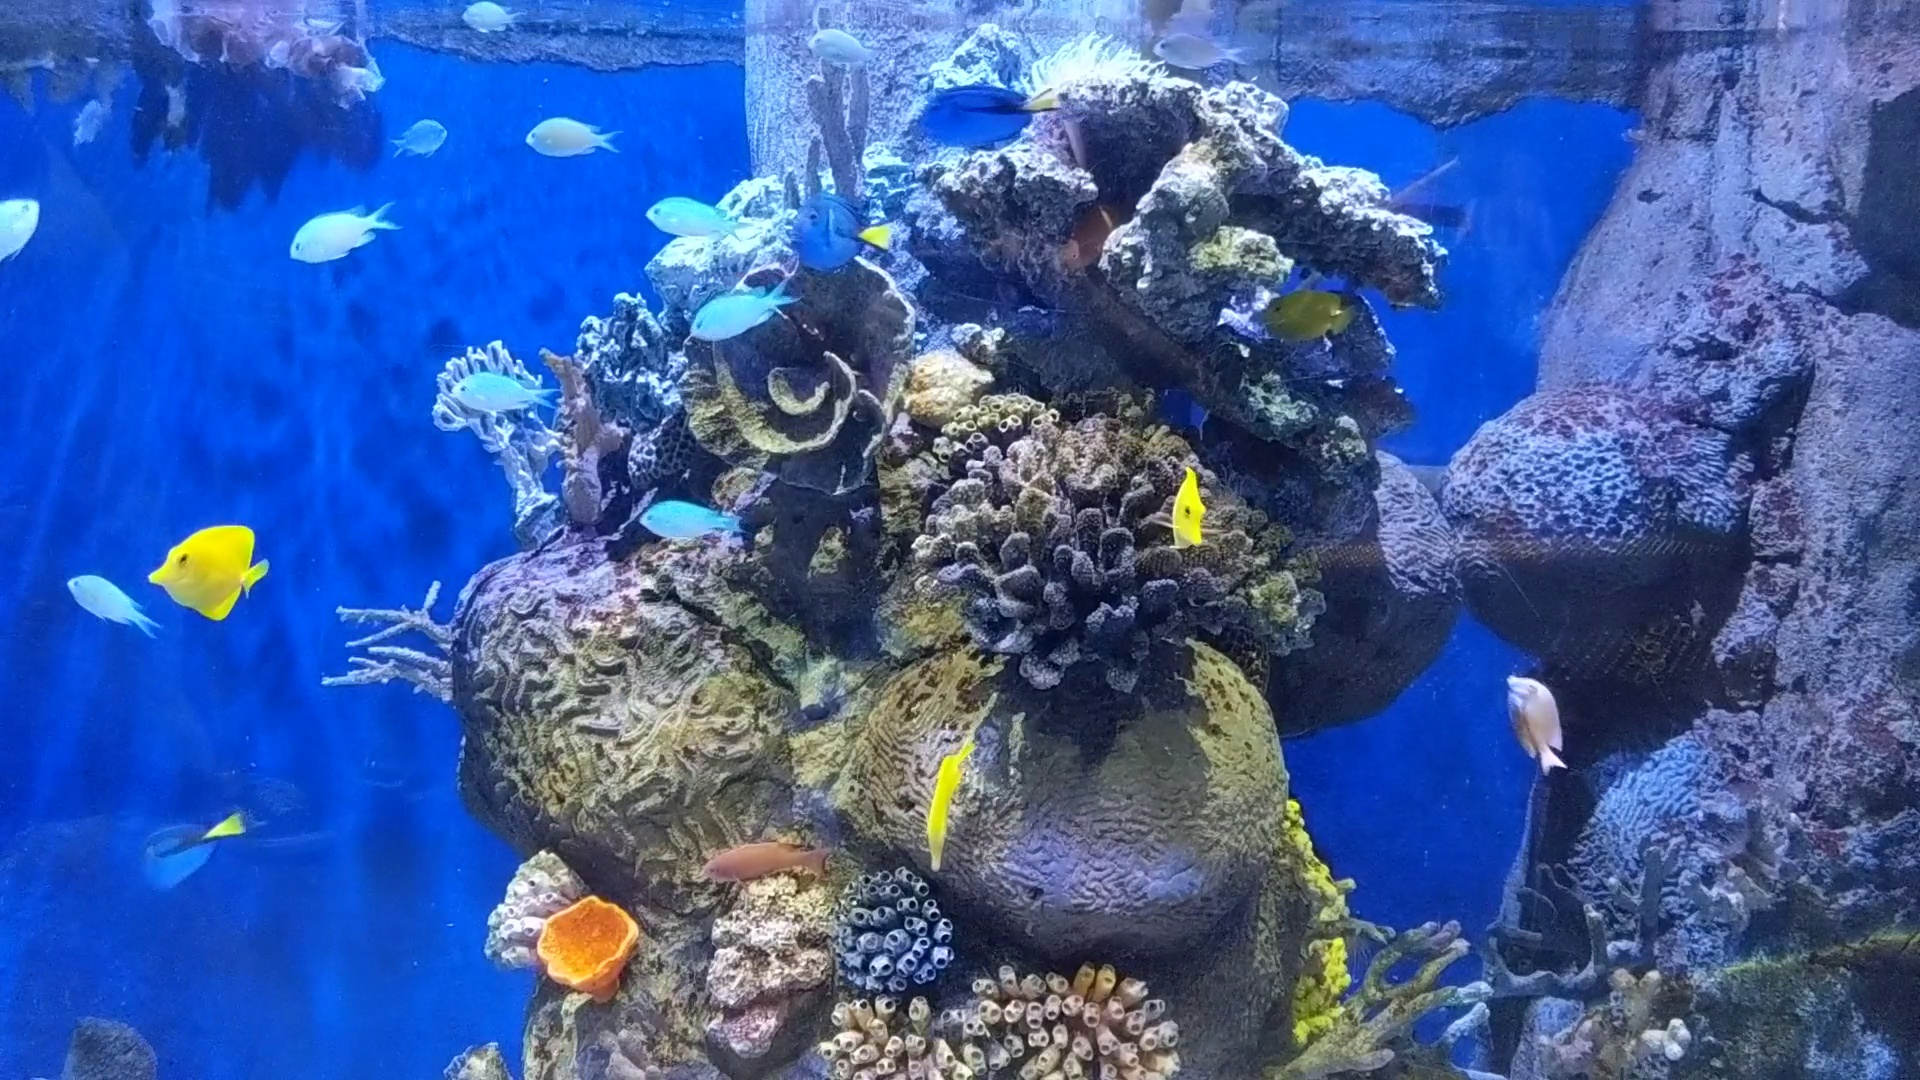blue tang surgeonfish: (113, 782, 282, 907), (887, 59, 1054, 161), (779, 175, 897, 262)
damselfish: (272, 177, 411, 286), (45, 554, 170, 650), (678, 278, 795, 368), (638, 171, 752, 261), (433, 364, 562, 434), (622, 483, 742, 558), (518, 98, 624, 171), (1139, 17, 1254, 76), (796, 15, 885, 88), (382, 102, 452, 164), (448, 0, 527, 45), (59, 84, 111, 152)
pink fish: (1472, 642, 1600, 793)
saddle butterfly fish: (125, 518, 282, 628), (897, 736, 986, 885), (1250, 270, 1364, 363), (1151, 464, 1213, 554)
